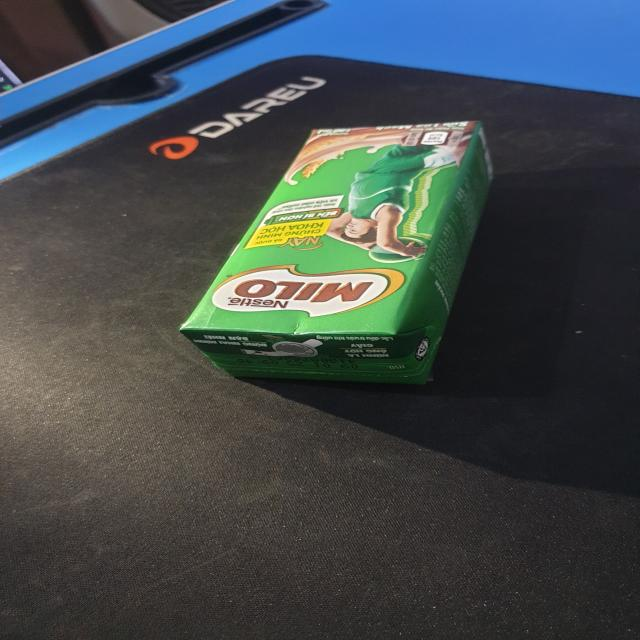Milo: (173, 125, 500, 387)
